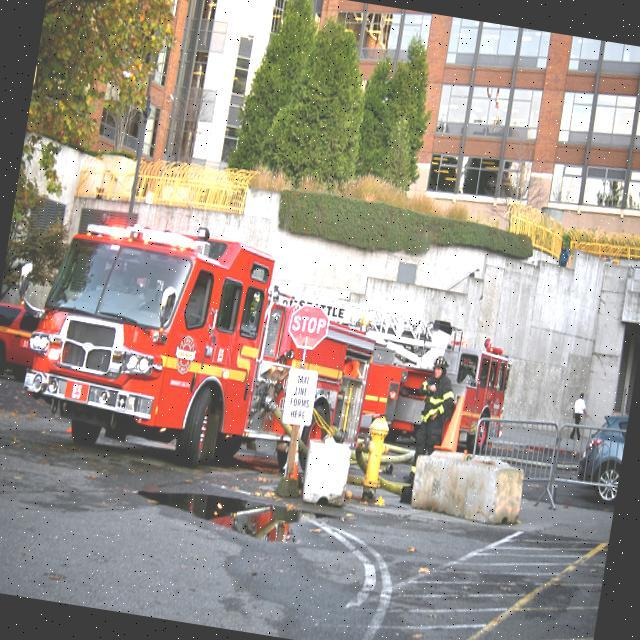fire_hydrant: (358, 414, 393, 504)
